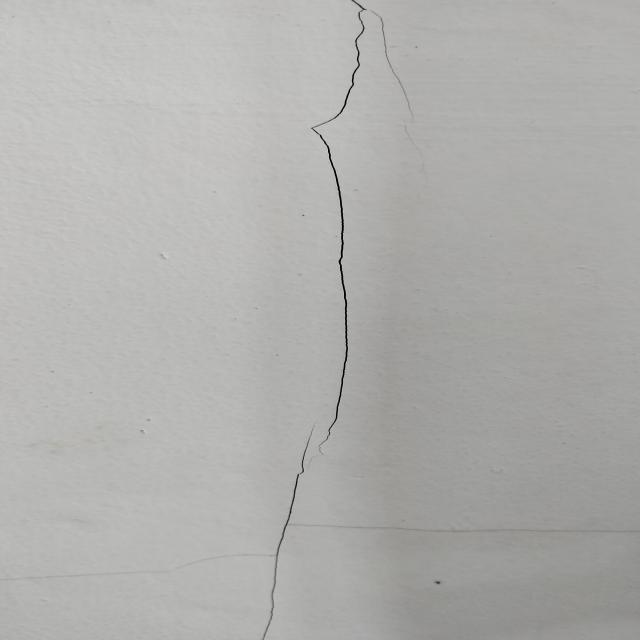Crack: (234, 1, 423, 640)
